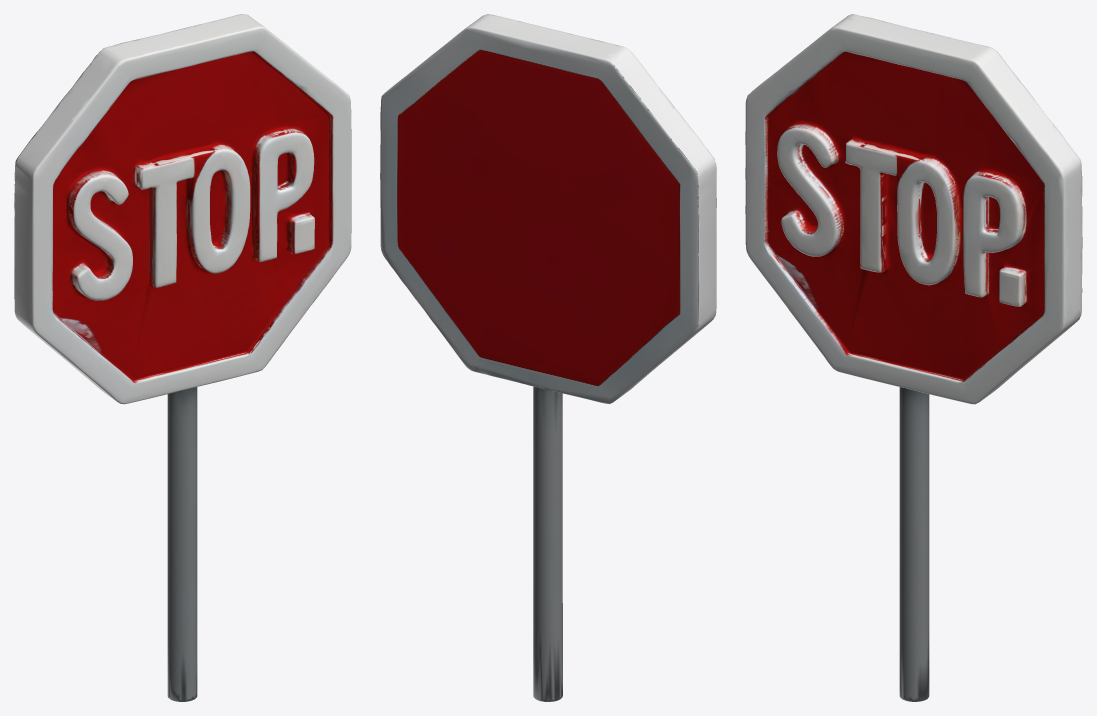
File: env_trafficsign.glb
The picture shows the model from 3 angles, left to right: view 1: azimuth 30°, elevation 25°; view 2: azimuth 150°, elevation 25°; view 3: azimuth 330°, elevation 25°; orthographic projection.
Parts seen in each view (by area): view 1: model; view 2: model; view 3: model.
Boxes of the visible parts, left/top/right/bottom form: model: left=14, top=14, right=351, bottom=701; model: left=380, top=14, right=716, bottom=701; model: left=745, top=14, right=1082, bottom=701.
Bounding box in the file's own units: 0.9632 × 1.9 × 0.1248.
1 material, 1 textured.
